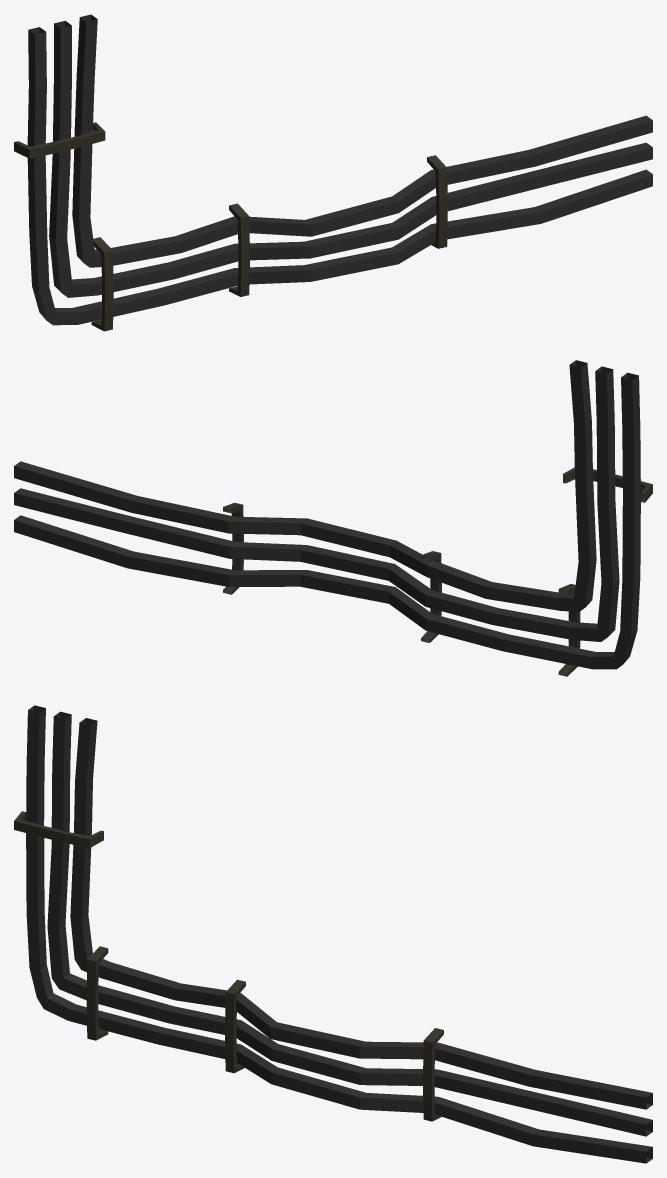
Rendered from SW_ENV_Wires3_RailTunnelWall_90dTurn_02.fbx.
The picture shows the model from 3 angles, top to bottom: view 1: azimuth 30°, elevation 25°; view 2: azimuth 150°, elevation 25°; view 3: azimuth 330°, elevation 25°; orthographic projection.
Parts seen in each view (by area): view 1: SW_ENV_Wires3_RailTunnelWall_90dTurn_02; view 2: SW_ENV_Wires3_RailTunnelWall_90dTurn_02; view 3: SW_ENV_Wires3_RailTunnelWall_90dTurn_02.
Part boxes in pixels (x1,y1,x2,y2): SW_ENV_Wires3_RailTunnelWall_90dTurn_02: (14,14,652,331); SW_ENV_Wires3_RailTunnelWall_90dTurn_02: (14,360,652,676); SW_ENV_Wires3_RailTunnelWall_90dTurn_02: (14,705,652,1163).
Size of the model in its own units: 221 by 104 by 14.88.
